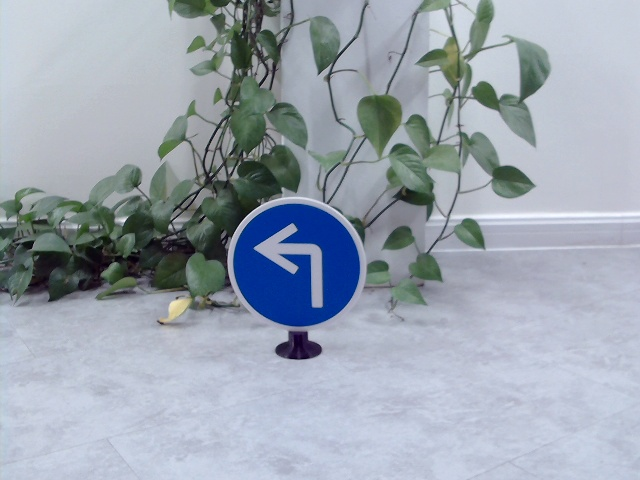turn_left: (249, 220, 328, 311)
